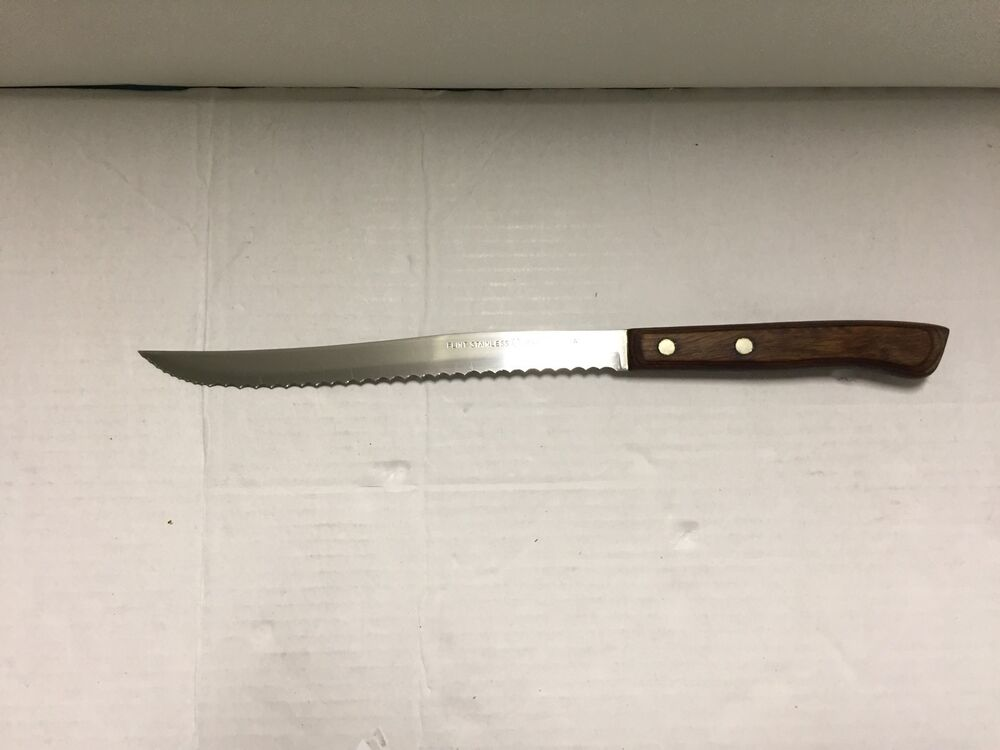knife: (142, 314, 957, 389)
